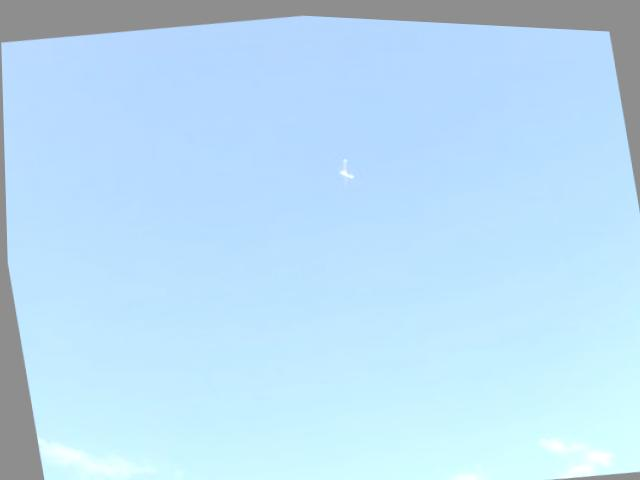uav: (327, 147, 360, 189)
